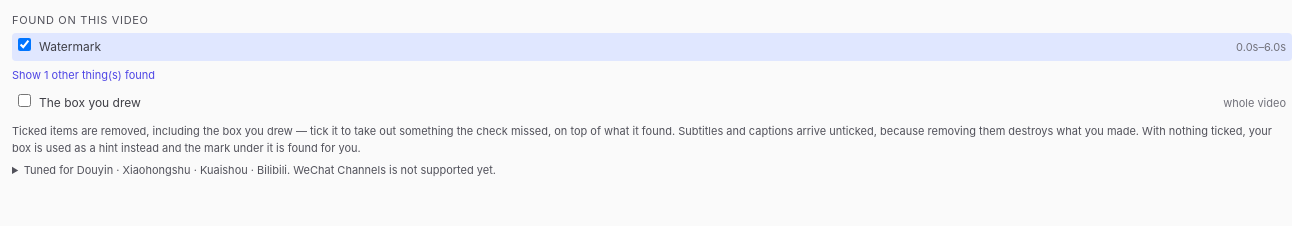
Test: FindingsPanel › shows the rest when asked
Click the button with test id "findings-toggle-rest".
click(84, 75)  # box [12, 64, 155, 85]
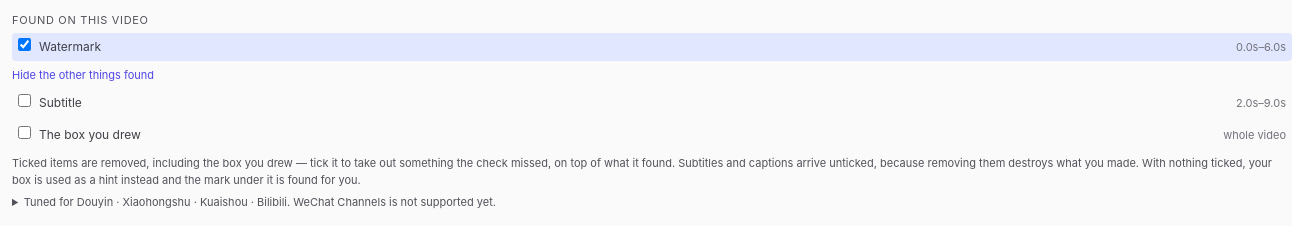
Check: the text "Subtitle 2.0s–9.0s" is shown, box [18, 94, 1286, 110]
